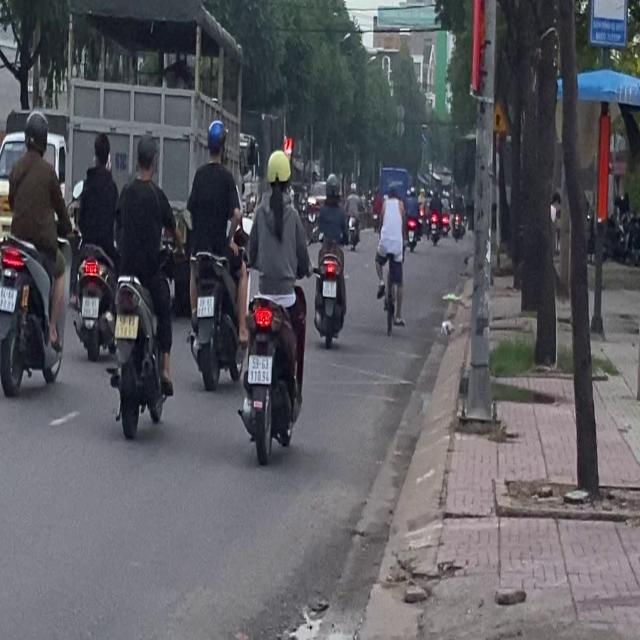helmet: (265, 148, 291, 192), (23, 108, 48, 153), (204, 118, 227, 162), (324, 172, 341, 201)
licenseplate: (239, 145, 310, 461), (109, 133, 176, 435), (0, 108, 69, 396), (182, 117, 246, 387), (68, 128, 121, 359), (311, 171, 350, 348)
motorcyclist: (135, 135, 157, 178), (91, 130, 110, 166)
nohelmet: (248, 354, 271, 383), (115, 312, 138, 337), (0, 286, 17, 310), (82, 296, 98, 316), (197, 296, 213, 316), (322, 281, 337, 297)
